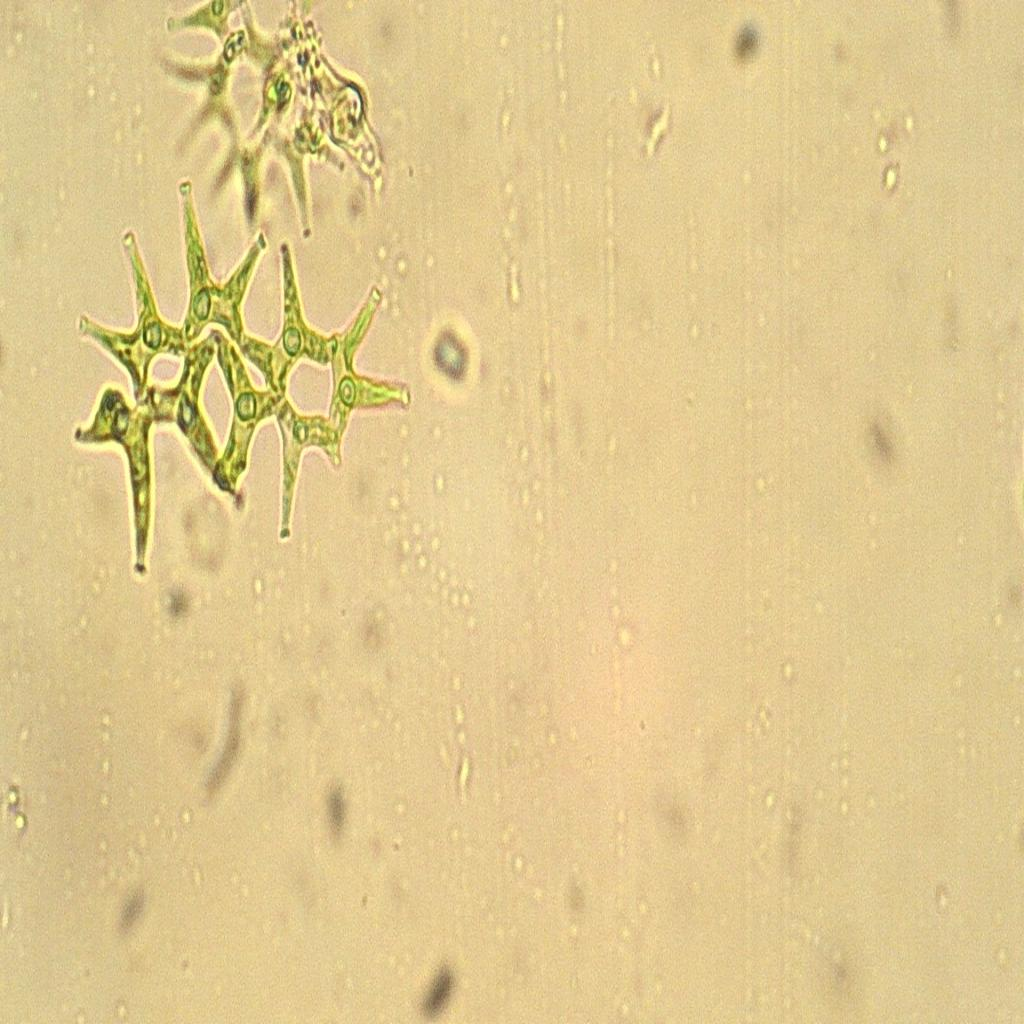Pediastrum_CFI: (65, 160, 428, 602)
